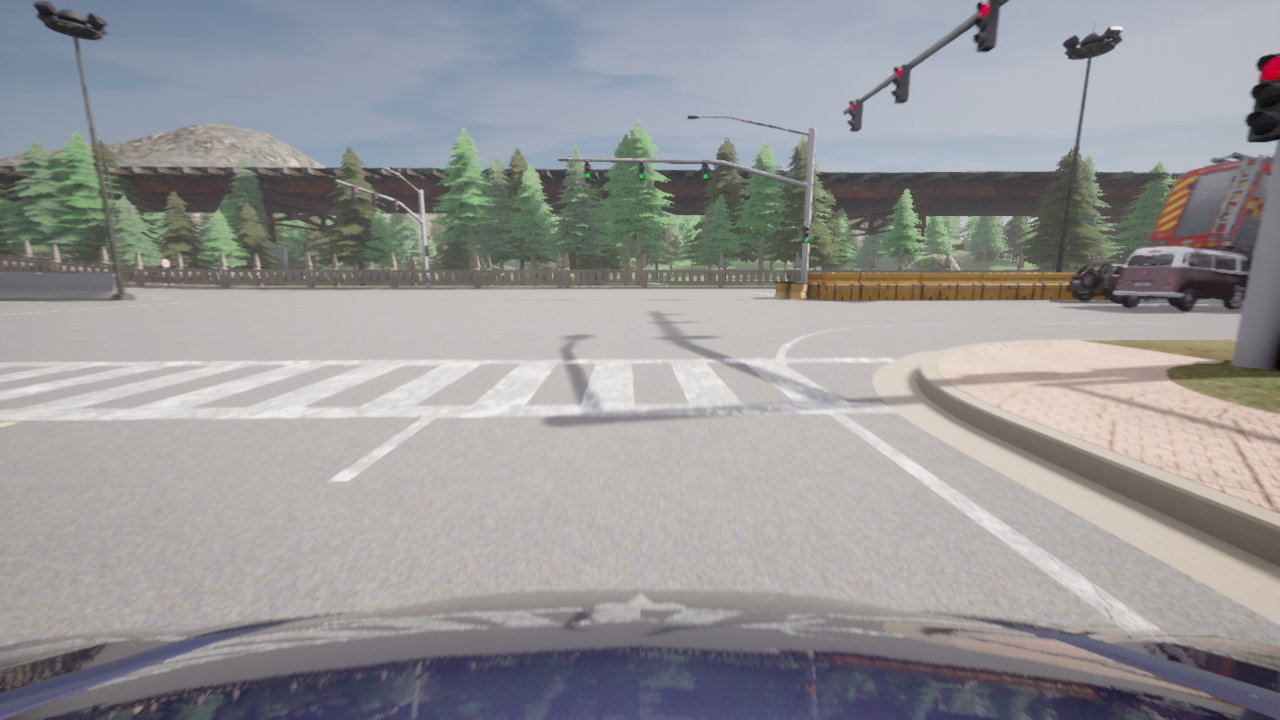cyclist: (0, 588, 1279, 719), (1148, 153, 1274, 270), (1113, 246, 1249, 310), (1066, 261, 1197, 302), (1121, 259, 1126, 260)
pedestrian: (120, 264, 125, 282), (942, 267, 943, 269)
